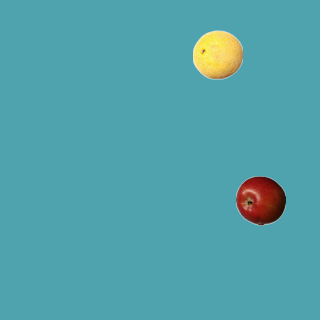Apple Braeburn: (235, 175, 285, 225)
Cantaloupe 1: (192, 29, 242, 79)
